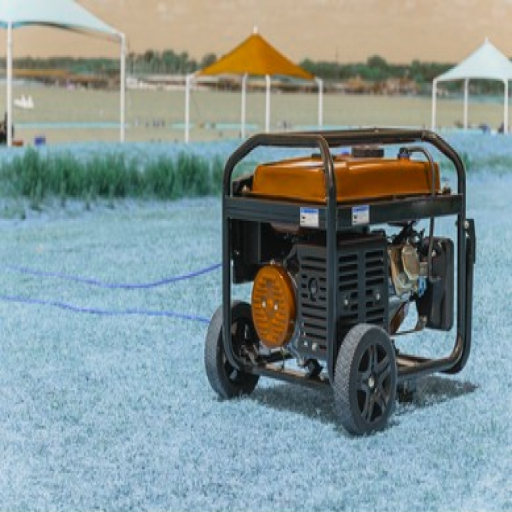portable_generator: (221, 129, 478, 388)
